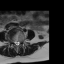CCS_normal: (16, 39, 18, 47)
LFS_normal: (20, 38, 22, 45)
LLS_normal: (18, 39, 20, 46)
RFS_normal: (12, 38, 14, 44)
RLS_normal: (14, 38, 16, 46)
